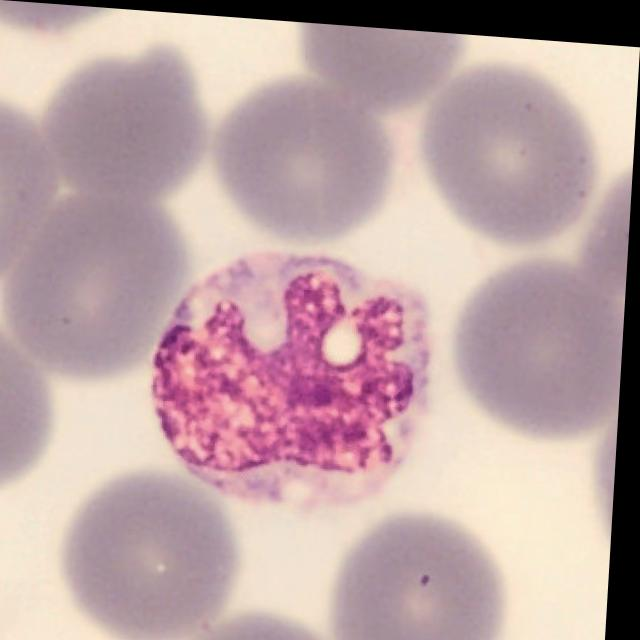Monocito: (155, 249, 437, 509)
